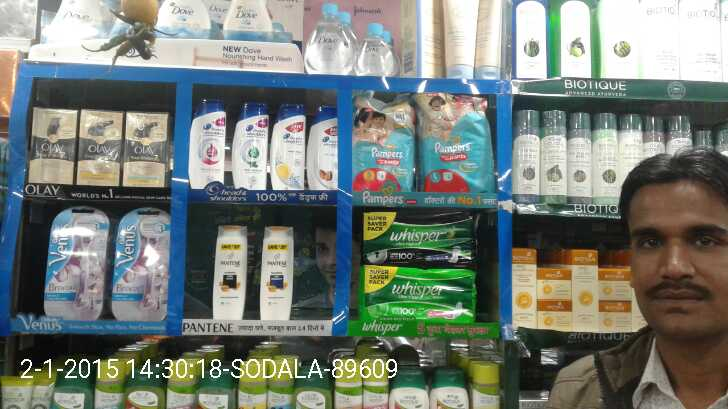venus: (46, 208, 109, 316), (110, 208, 169, 317)
